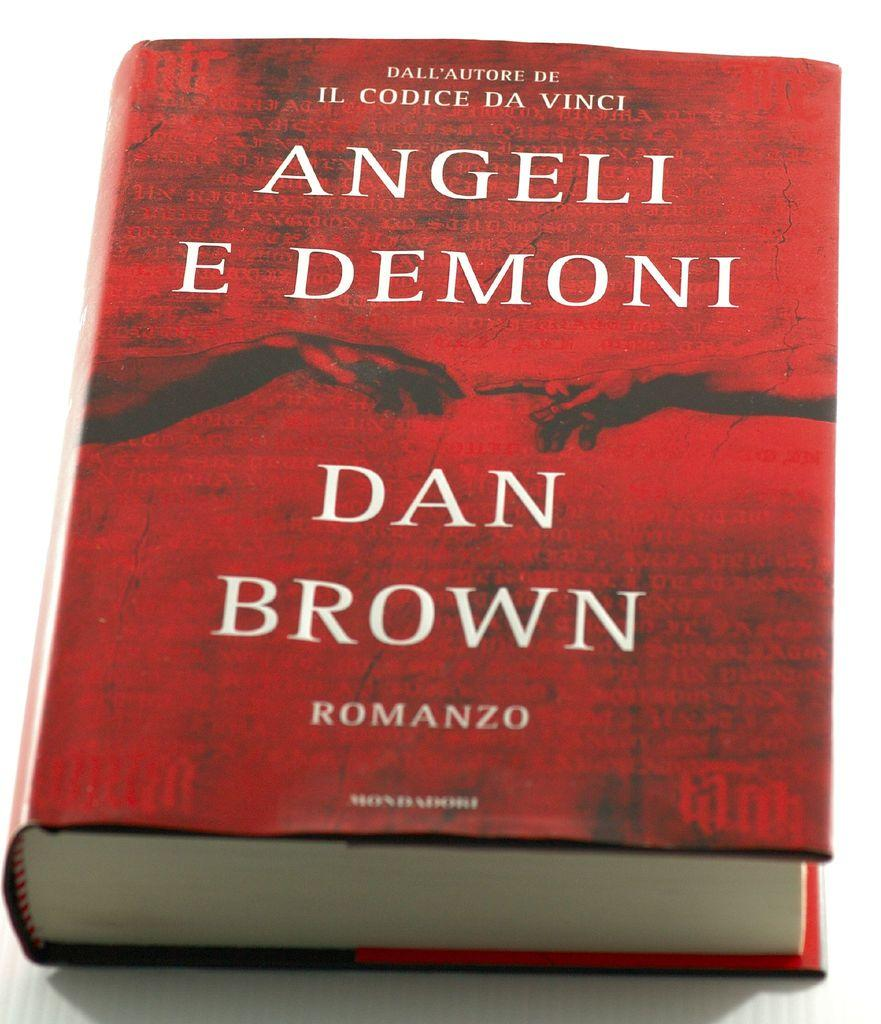book: (0, 41, 843, 979)
